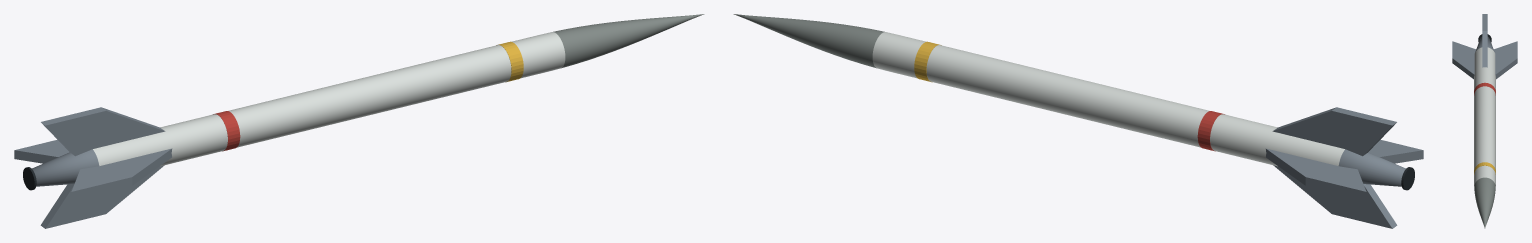
Rendered from aim120_family.glb.
The picture shows the model from 3 angles, left to right: view 1: azimuth 30°, elevation 25°; view 2: azimuth 150°, elevation 25°; view 3: azimuth 270°, elevation 25°; orthographic projection. The views are drawn at different scales.
Visible parts, largest first — view 1: aim120_family; view 2: aim120_family; view 3: aim120_family.
Boxes of the visible parts, x1,y1,x2,y2 form: aim120_family: (14, 14, 704, 228); aim120_family: (733, 14, 1423, 228); aim120_family: (1452, 14, 1517, 228).
Size of the model in its own units: 10 by 1.46 by 1.46.
